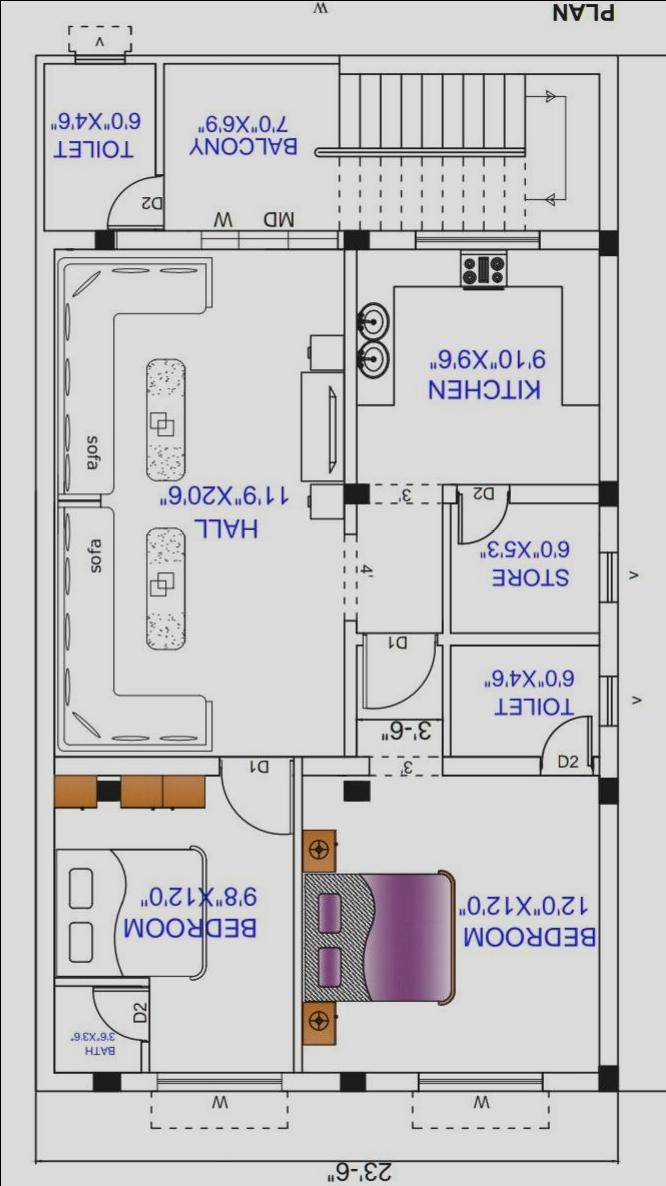Blueprint: (24, 45, 626, 1105)
wall: (32, 230, 54, 1072), (596, 802, 618, 1066), (337, 54, 599, 74), (598, 254, 618, 482), (290, 753, 302, 1072), (597, 54, 618, 230), (343, 248, 358, 484), (439, 503, 452, 758), (123, 52, 340, 66), (52, 756, 220, 774), (434, 632, 601, 646), (341, 620, 356, 757), (508, 482, 598, 504), (439, 756, 540, 775), (114, 228, 200, 250), (598, 602, 619, 678), (34, 64, 43, 232), (540, 1068, 598, 1094), (538, 228, 598, 250), (364, 1069, 419, 1093), (35, 1071, 93, 1093), (301, 756, 369, 774), (154, 64, 164, 177), (596, 505, 619, 553), (279, 1072, 340, 1090), (598, 726, 618, 778), (50, 229, 96, 248), (368, 230, 415, 248), (119, 1072, 157, 1092), (342, 501, 357, 533), (34, 54, 74, 64), (440, 482, 457, 504)
